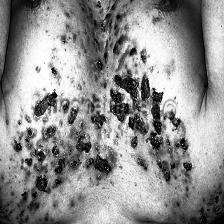Non-Cancerous Skin Condition: (7, 135, 215, 224), (23, 0, 189, 85)
